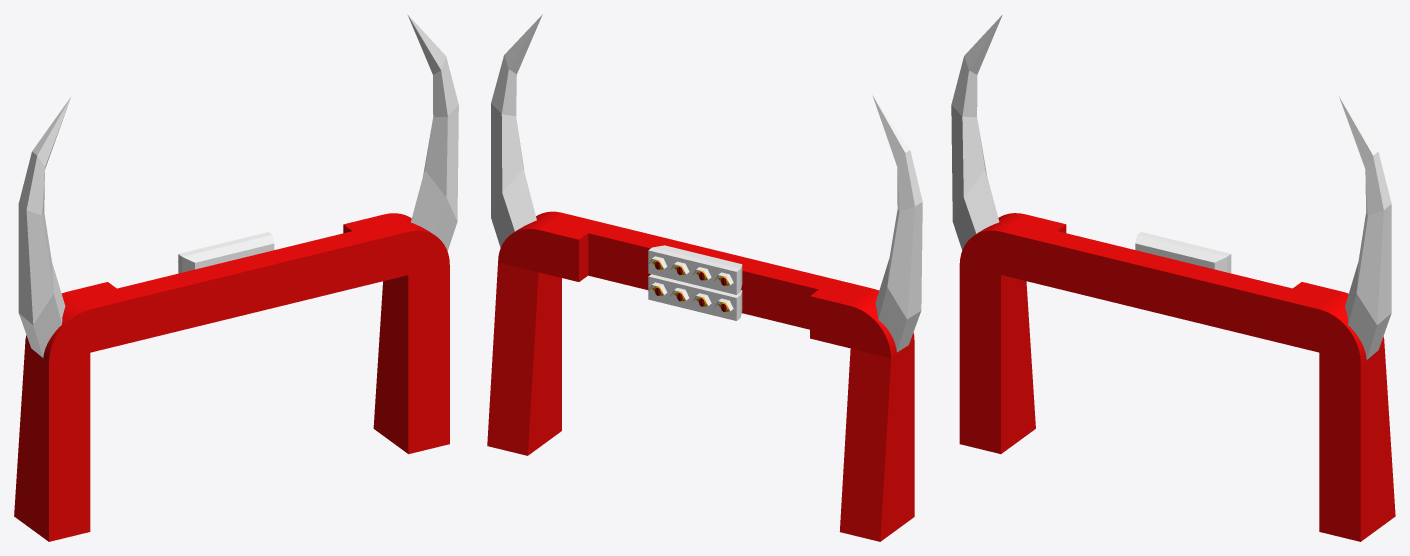
File: overheadLights_3.fbx
3 views of the same model, side by side, from view 1: azimuth 30°, elevation 25°; view 2: azimuth 150°, elevation 25°; view 3: azimuth 330°, elevation 25° (orthographic). The views are drawn at different scales.
Visible parts, largest first — view 1: overheadLights_3; view 2: overheadLights_3; view 3: overheadLights_3.
Boxes of the visible parts, <box> form: overheadLights_3: <box>14,14,458,541</box>; overheadLights_3: <box>487,14,922,541</box>; overheadLights_3: <box>951,15,1395,541</box>.
Size of the model in its own units: 1359 by 192 by 1293.
